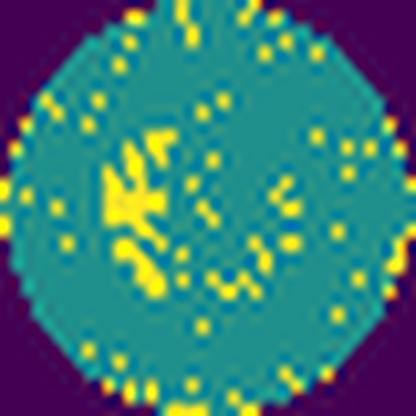Loc: (102, 144, 166, 248), (114, 238, 169, 297), (148, 128, 180, 166)
